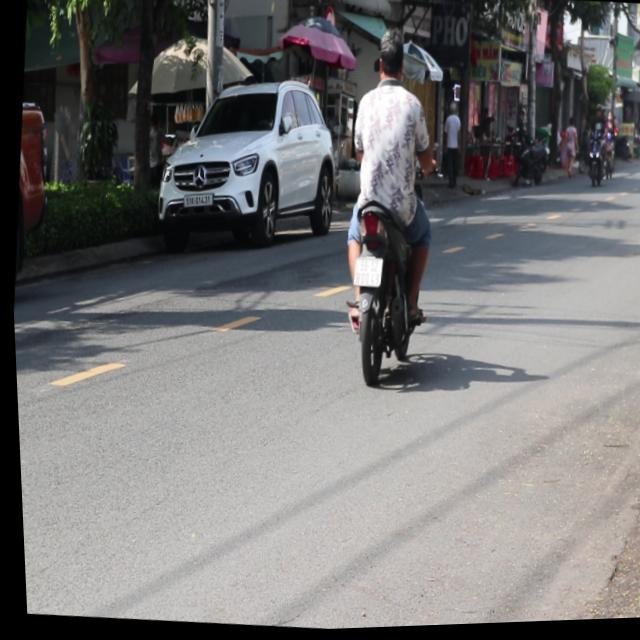licenseplate: (319, 25, 455, 392)
motorcyclist: (371, 31, 408, 88)
nohelmet: (350, 256, 380, 289)
